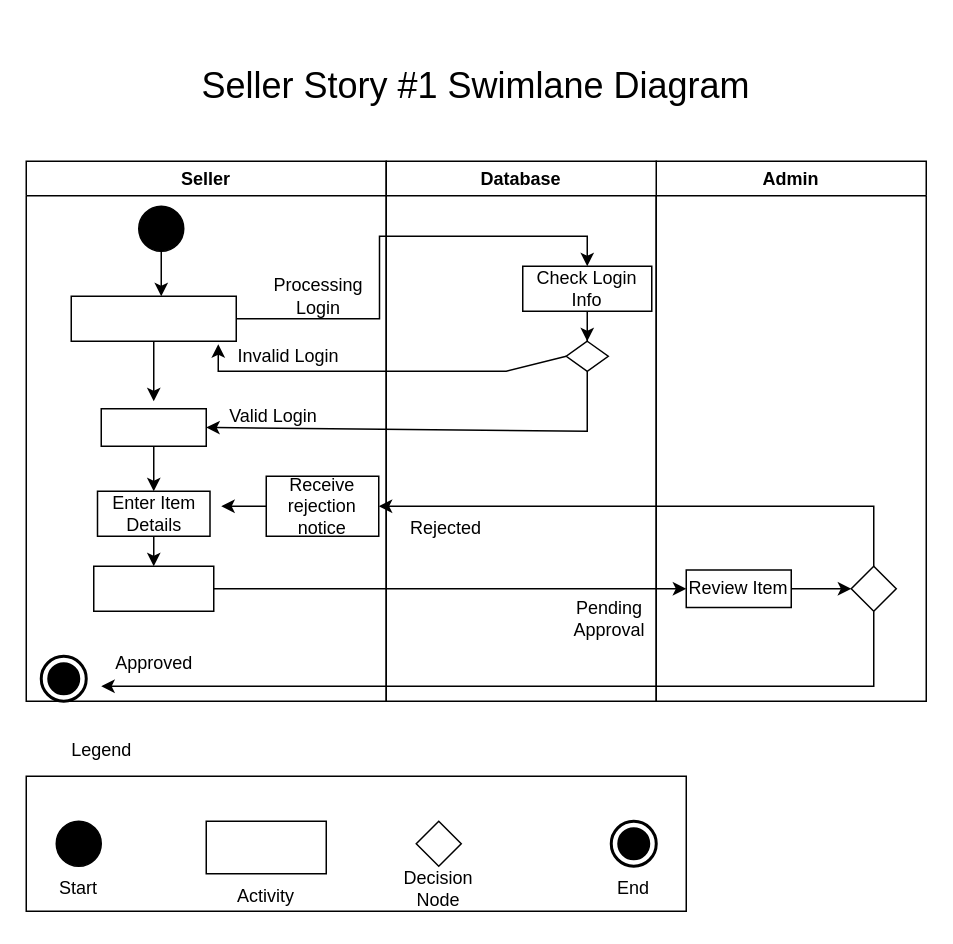
This 953x944 diagram has some shape labels left out. The centre of each missing label's shape, as x and y in pixels:
"Enter Login Info" goes at pixel 153 318.
"Go to add items page" goes at pixel 153 426.
"Submit Item to be approved" goes at pixel 153 588.
